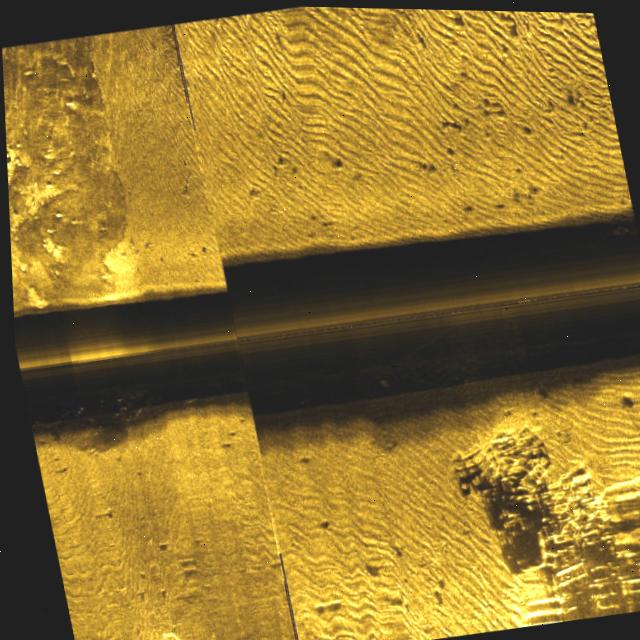artificial reef: (441, 411, 595, 544), (617, 345, 640, 405), (596, 218, 637, 242)
